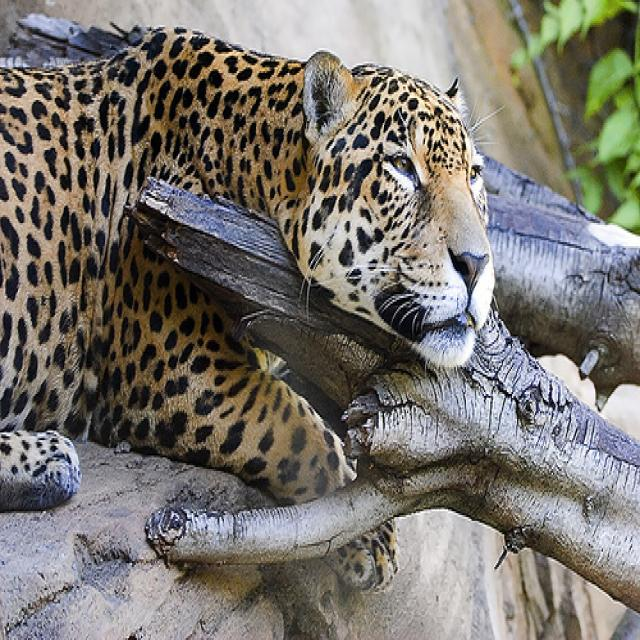Leopard: (0, 21, 490, 508)
